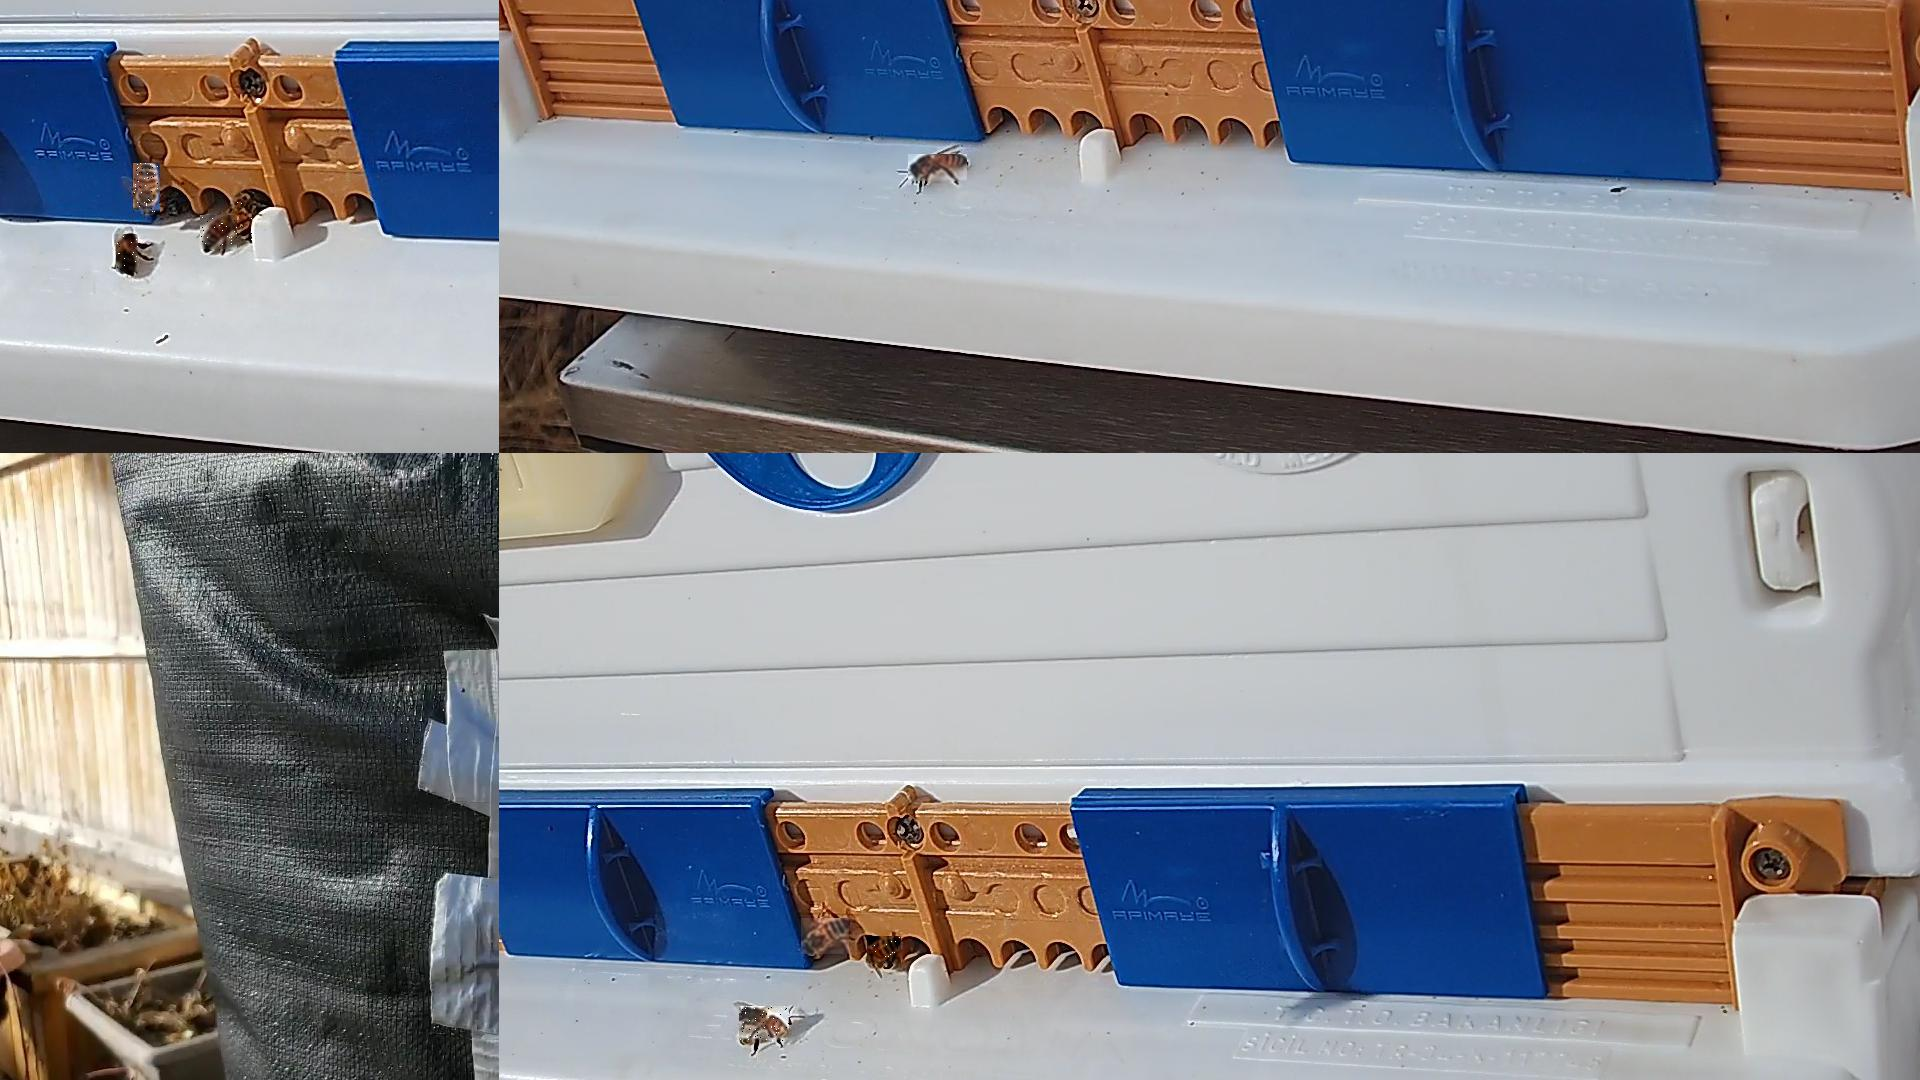bee: (740, 1006, 790, 1043), (802, 918, 851, 955), (909, 154, 968, 183), (133, 164, 161, 215), (200, 216, 239, 252), (235, 194, 258, 241), (868, 936, 902, 967), (116, 233, 140, 273)
